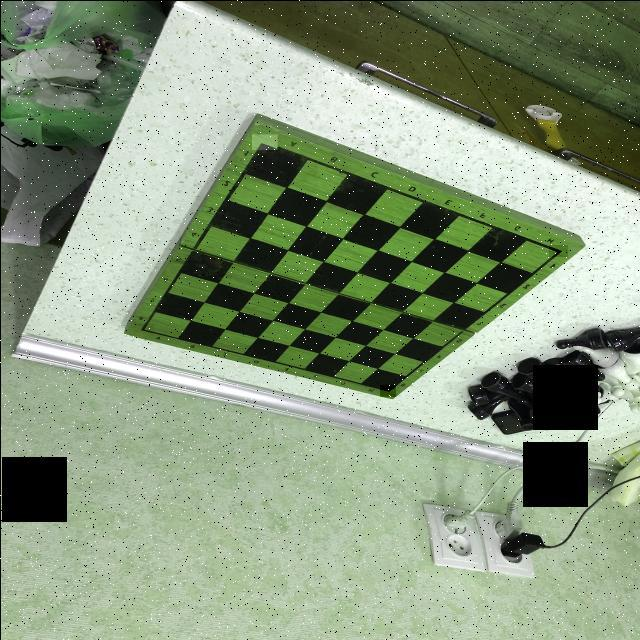chess-table-corners: (252, 132, 278, 148), (548, 244, 567, 256), (133, 323, 152, 335), (379, 384, 395, 396)
